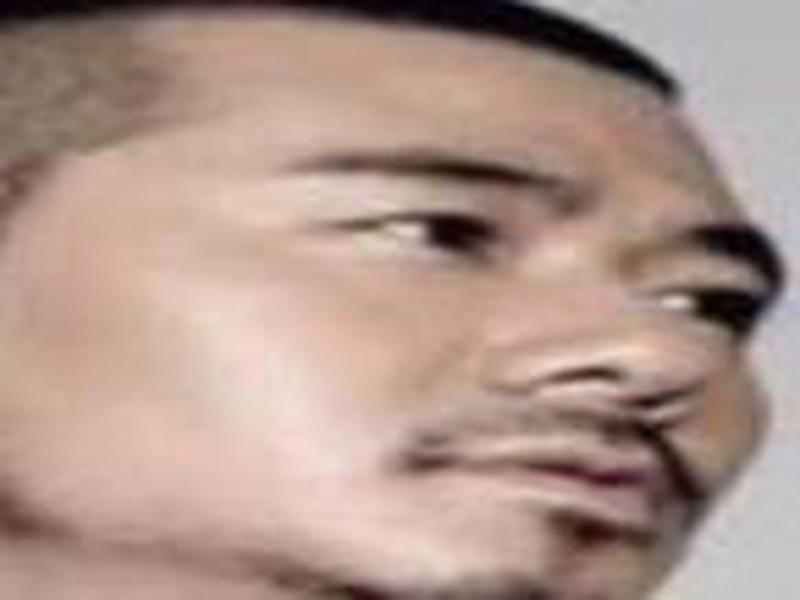without_mask: (14, 21, 778, 600)
